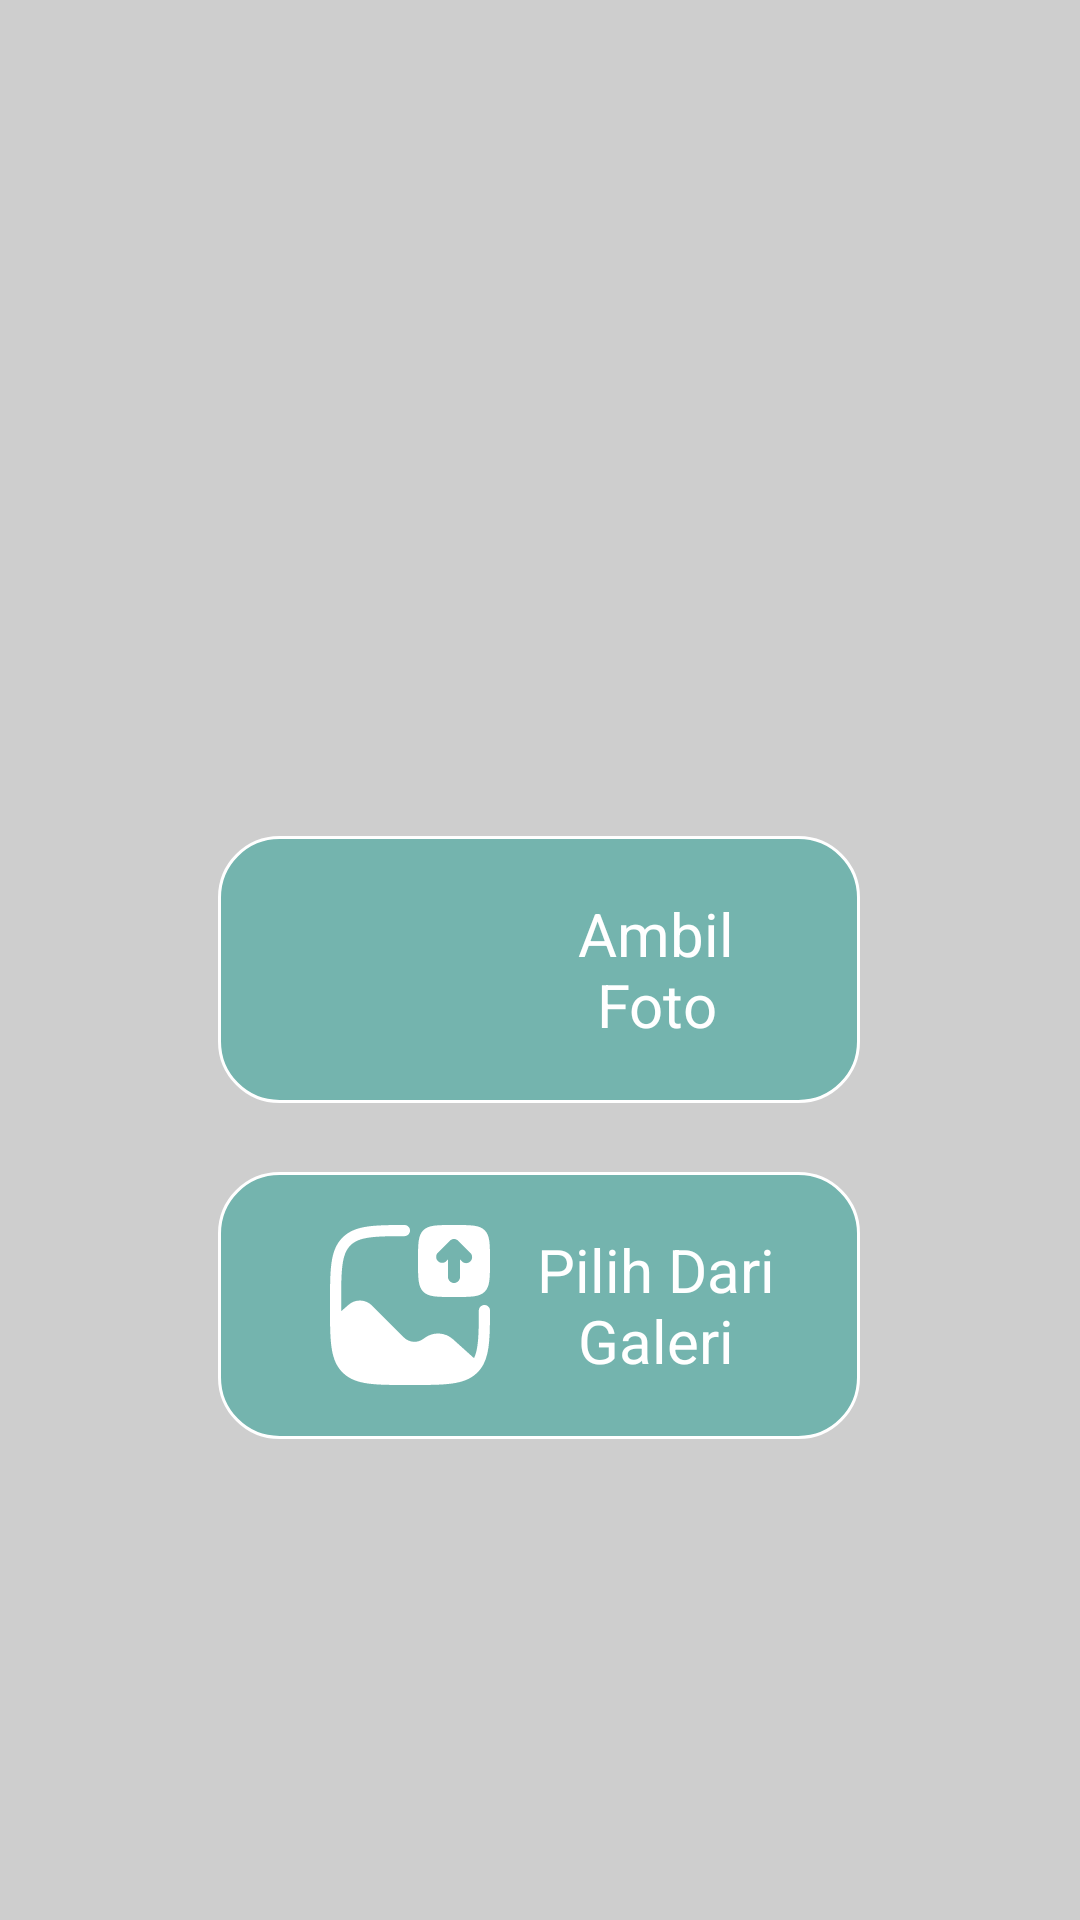

Point at icon controls on the screen. Image size 1080w x 1920h, points as (x,y).
upload: (410,1305)
